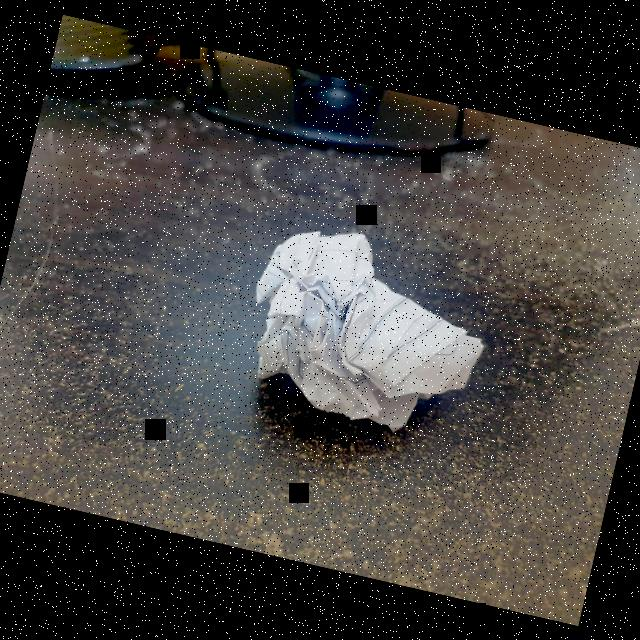scrap_paper: (230, 210, 506, 450)
